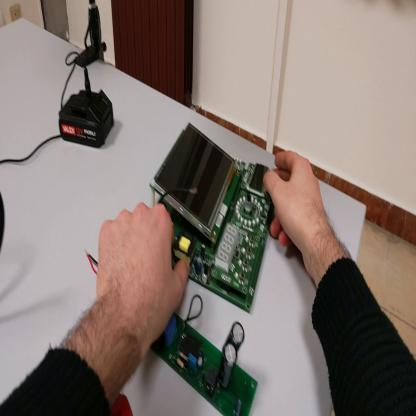electric screwdriver battery: (60, 92, 116, 149)
hand: (94, 204, 190, 355), (263, 149, 328, 258)
high voltage board: (83, 248, 260, 415)
low voltage board: (152, 127, 276, 319)
